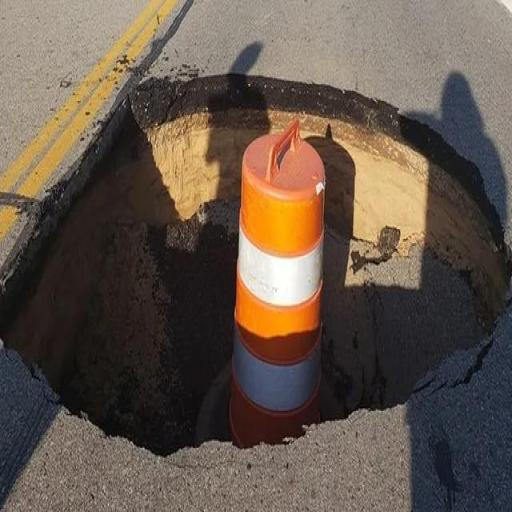Concentric_Crack: (0, 75, 512, 454)
